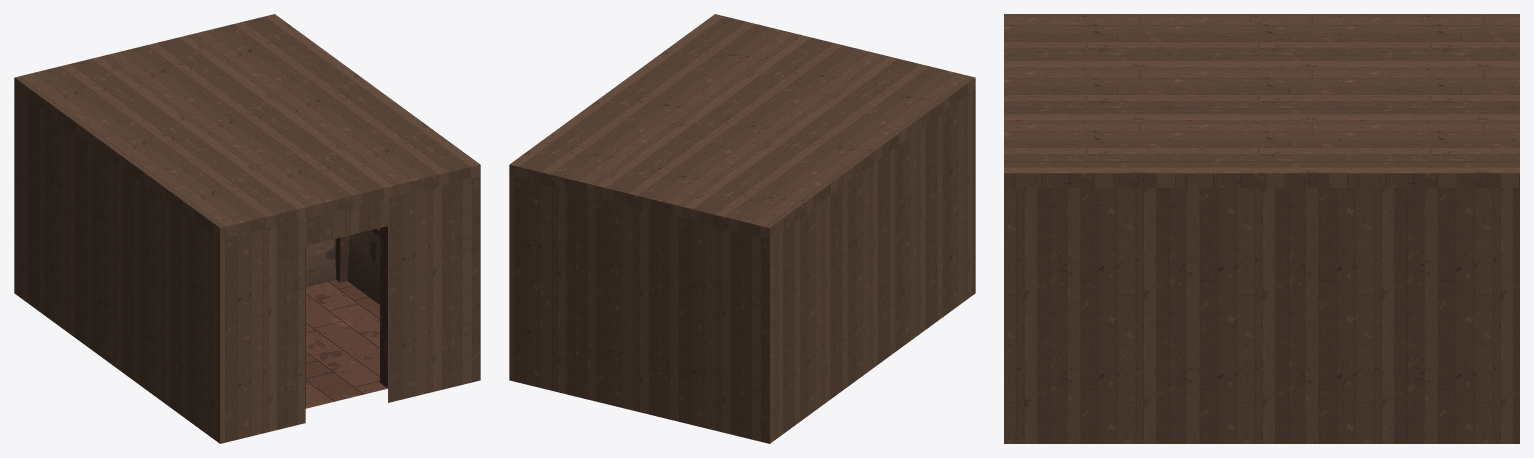
File: SM_RoomShell.fbx
3 views of the same model, side by side, from view 1: azimuth 30°, elevation 25°; view 2: azimuth 150°, elevation 25°; view 3: azimuth 270°, elevation 25° (orthographic). The views are drawn at different scales.
Parts seen in each view (by area): view 1: Room_Exterior, Room_Floor, Room_WallsFront, Room_Timber; view 2: Room_Exterior; view 3: Room_Exterior.
Boxes of the visible parts, left/top/right/bottom form: Room_Exterior: left=14, top=14, right=480, bottom=443; Room_Floor: left=306, top=280, right=387, bottom=408; Room_WallsFront: left=306, top=230, right=379, bottom=304; Room_Timber: left=305, top=226, right=387, bottom=408; Room_Exterior: left=509, top=14, right=975, bottom=443; Room_Exterior: left=1004, top=14, right=1519, bottom=443.
Bounding box in the file's own units: 3.8 × 3.01 × 5.2.
